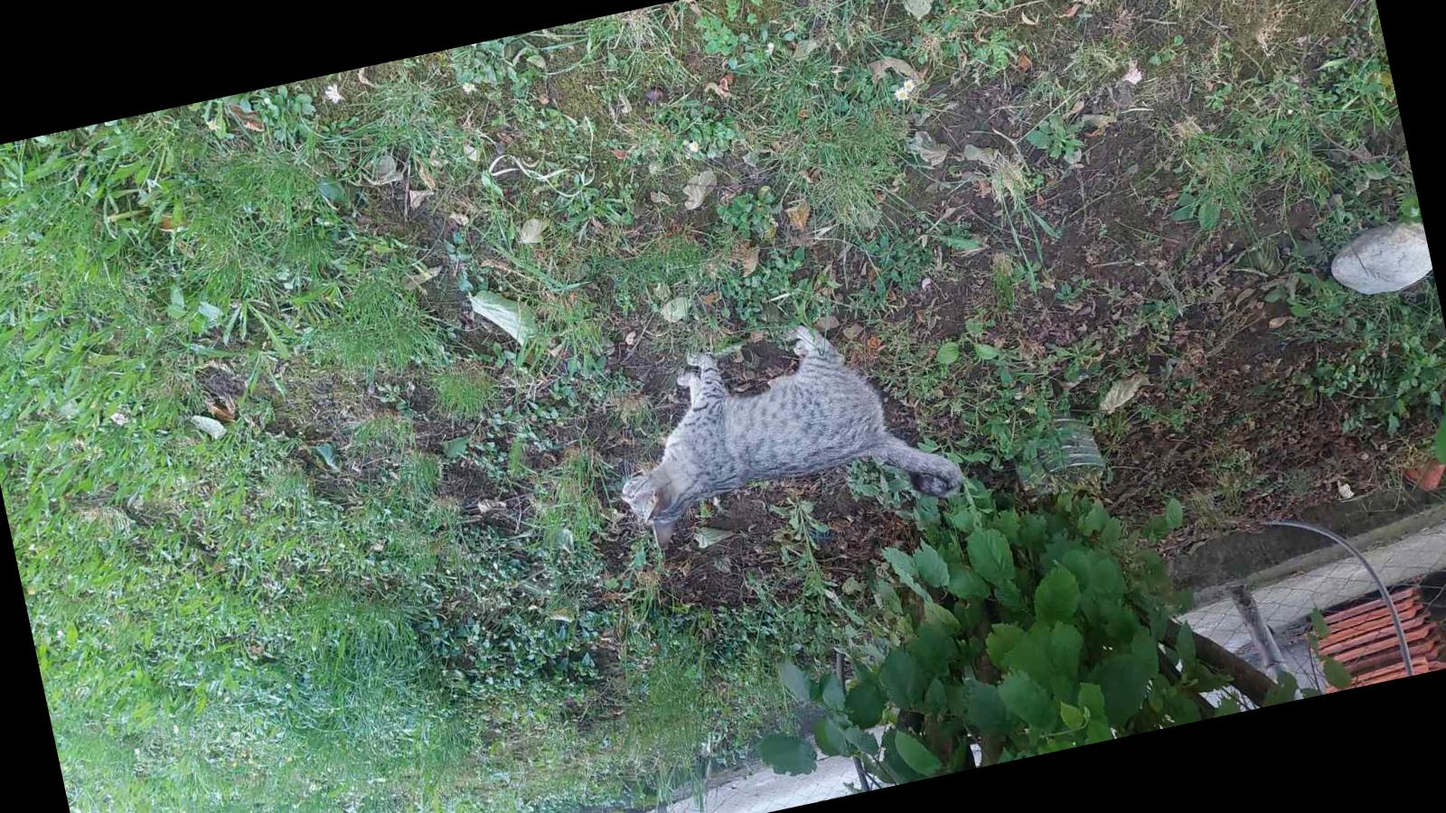macka: (594, 295, 967, 565)
